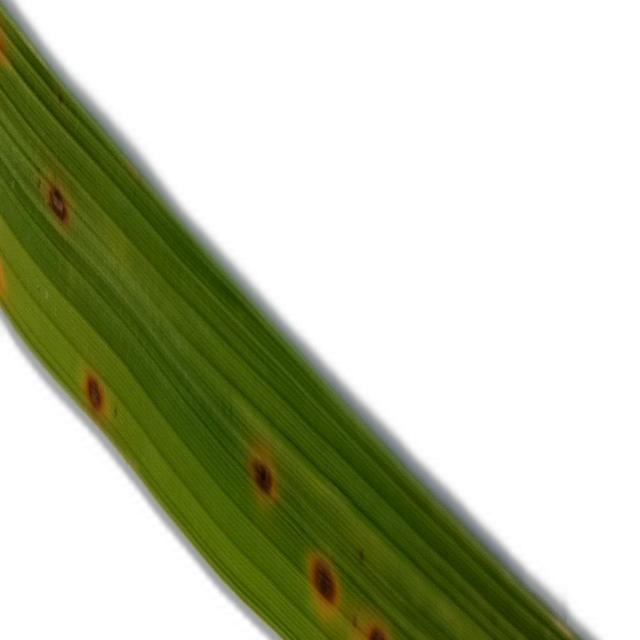LEAF BLAST: (308, 553, 340, 621), (247, 439, 279, 502), (46, 182, 71, 228), (83, 370, 105, 419), (367, 620, 392, 640)
